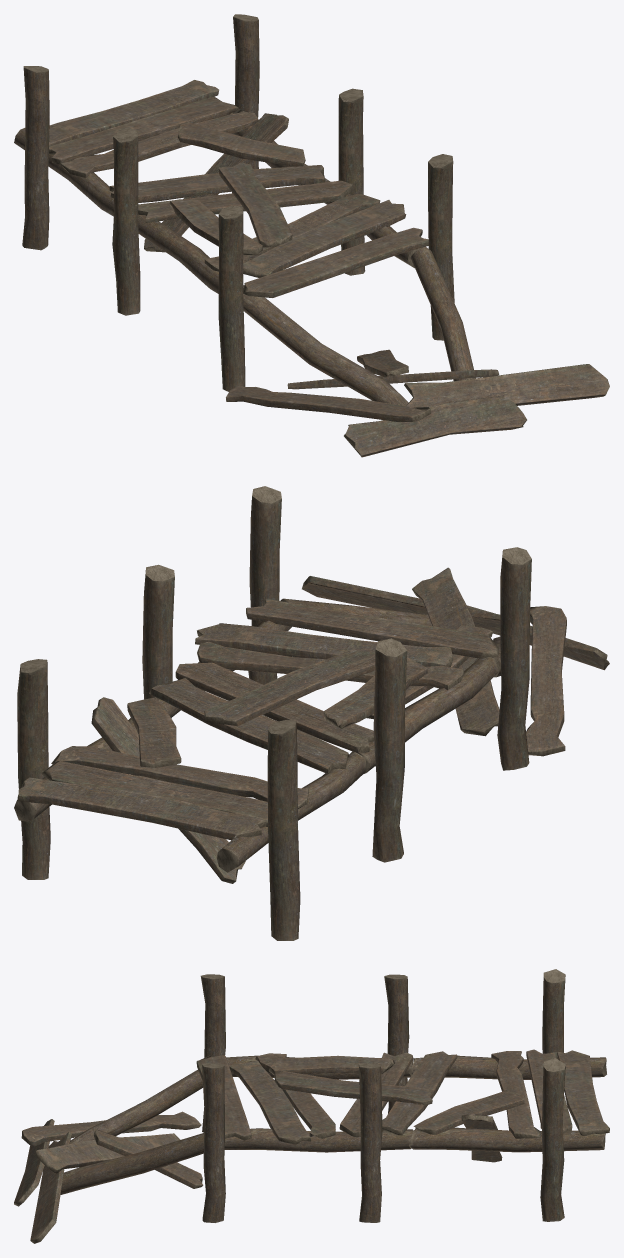
The model's file is SM_WoodDeck.fbx.
3 renders of one model, top to bottom at view 1: azimuth 30°, elevation 25°; view 2: azimuth 150°, elevation 25°; view 3: azimuth 270°, elevation 25°, orthographic. The views are drawn at different scales.
Parts seen in each view (by area): view 1: SM_WoodDeck_LOD0; view 2: SM_WoodDeck_LOD0; view 3: SM_WoodDeck_LOD0.
Boxes of the visible parts, x1,y1,x2,y2 form: SM_WoodDeck_LOD0: [14, 14, 609, 457]; SM_WoodDeck_LOD0: [14, 486, 609, 940]; SM_WoodDeck_LOD0: [14, 969, 609, 1243].
Size of the model in its own units: 313 by 612 by 179.
1 material, 1 textured.
